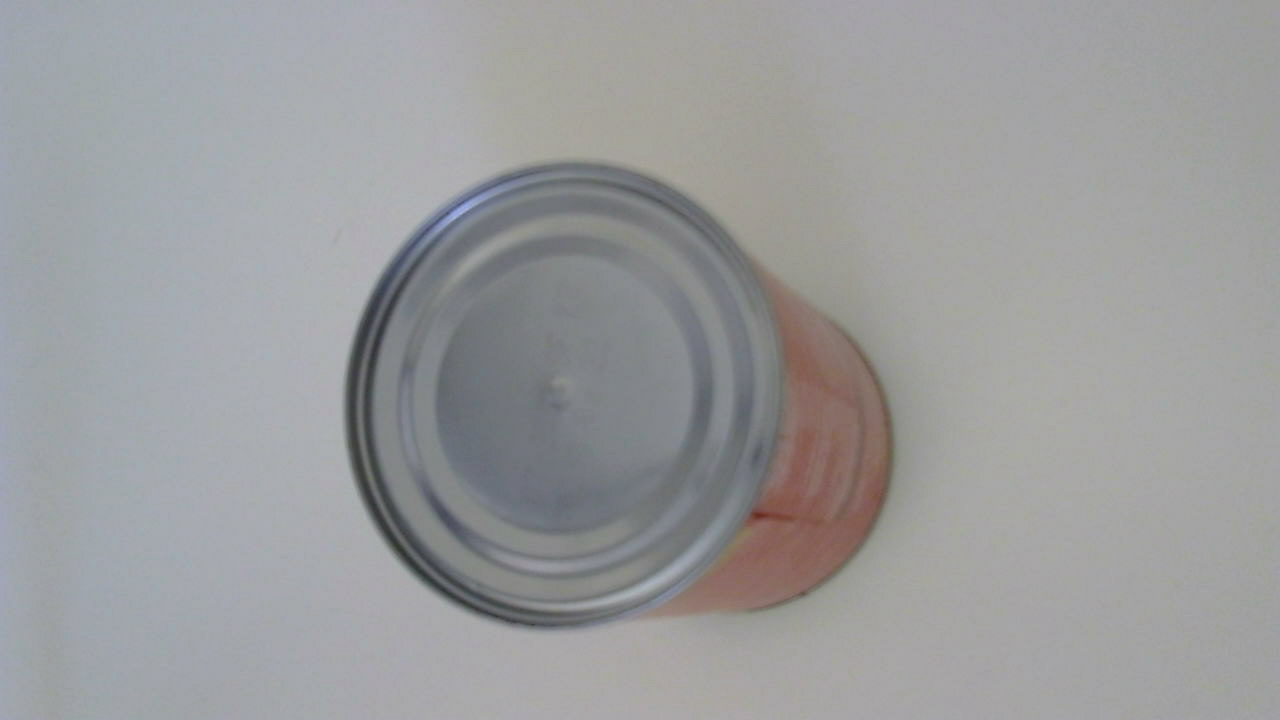Metal Tin: (336, 153, 913, 642)
